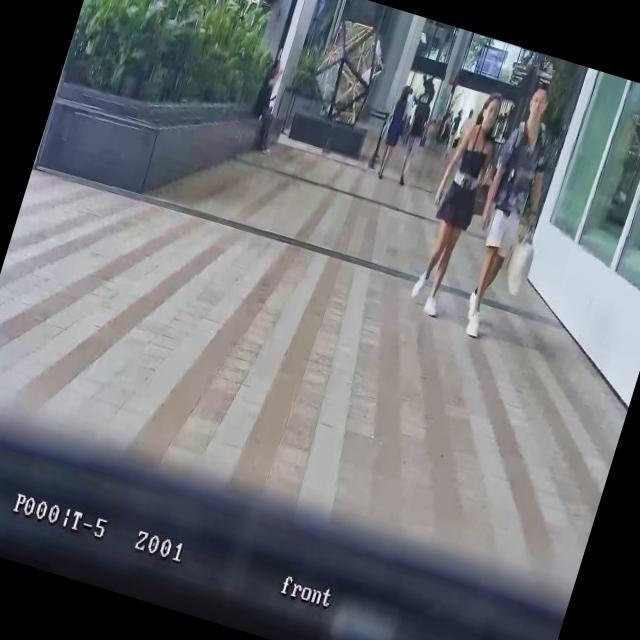person: (446, 78, 574, 344), (401, 85, 512, 322), (369, 81, 418, 182), (392, 84, 438, 188), (444, 106, 464, 150)
